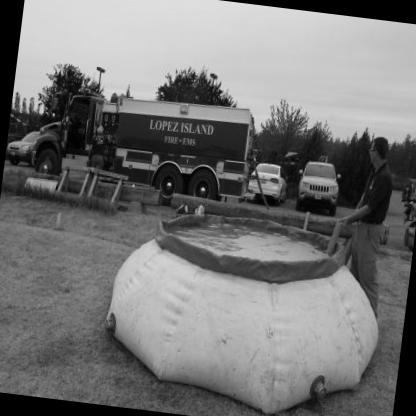truck: (25, 78, 268, 211)
